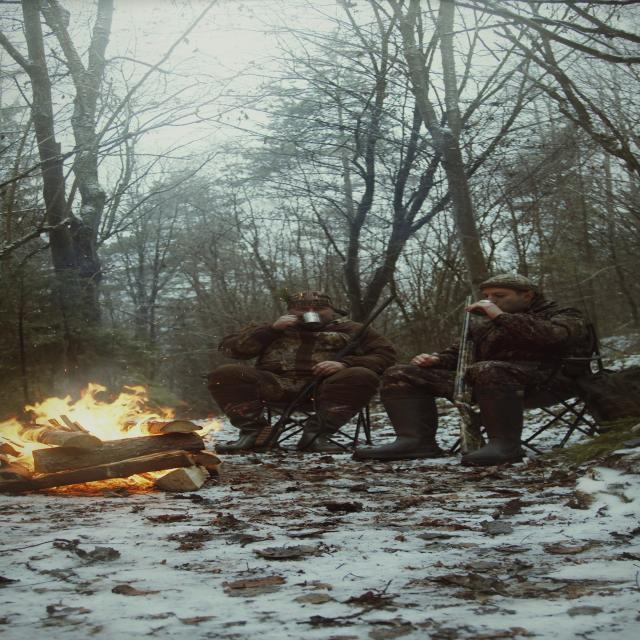Fire: (0, 373, 233, 482)
